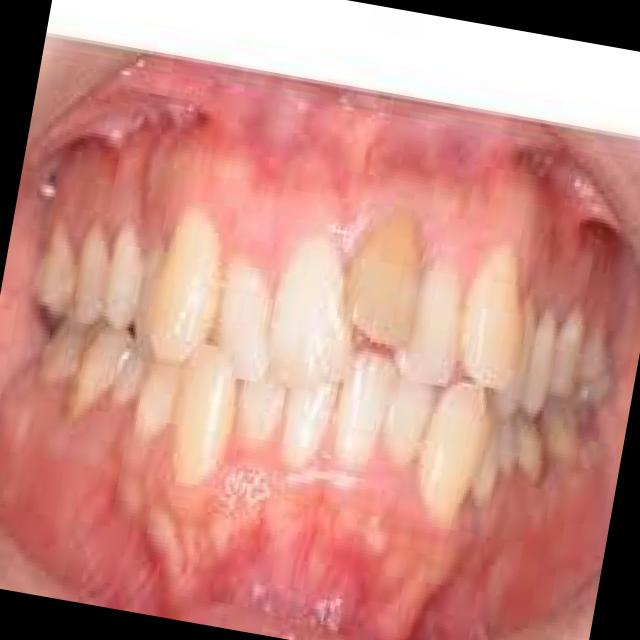Tooth: (266, 240, 352, 392), (150, 205, 223, 367), (345, 207, 423, 349), (457, 244, 525, 393), (395, 242, 463, 387), (418, 381, 486, 525), (172, 343, 238, 487), (334, 351, 398, 463), (216, 261, 271, 381), (74, 315, 134, 421), (493, 289, 538, 419), (383, 375, 438, 465), (281, 382, 339, 464), (102, 227, 143, 332), (133, 360, 183, 443), (72, 215, 111, 321), (39, 317, 94, 388), (523, 306, 558, 417), (40, 225, 77, 317), (549, 307, 585, 400), (239, 376, 288, 442), (474, 395, 502, 504), (112, 339, 153, 408), (136, 247, 164, 344), (543, 394, 581, 463), (573, 322, 607, 383), (516, 411, 544, 484), (500, 419, 519, 476)
